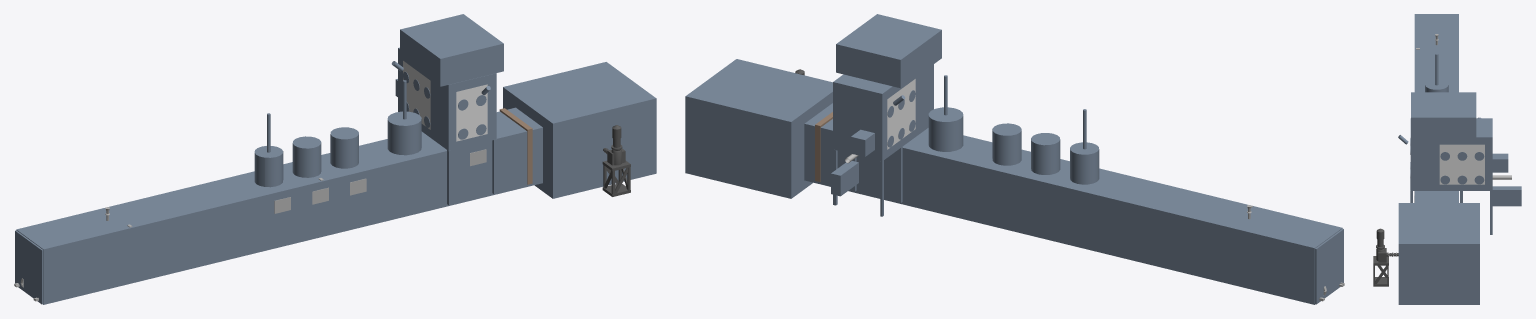
Rendered from PowderStorageBox_forUnity.fbx.
3 views of the same model, side by side, from view 1: azimuth 30°, elevation 25°; view 2: azimuth 150°, elevation 25°; view 3: azimuth 270°, elevation 25° (orthographic). The views are drawn at different scales.
Visible parts, largest first — view 1: Tunnel, SamplingUnitCor, Door; view 2: Tunnel, SamplingUnitCor, Door; view 3: Tunnel, SamplingUnitCor, Grabber_01.
Part boxes in pixels (bbox=[...]): Tunnel: bbox=[14, 62, 656, 304]; SamplingUnitCor: bbox=[391, 14, 503, 205]; Door: bbox=[499, 108, 532, 184]; Tunnel: bbox=[685, 59, 1344, 304]; SamplingUnitCor: bbox=[831, 14, 941, 216]; Door: bbox=[815, 112, 832, 181]; Tunnel: bbox=[1373, 14, 1479, 304]; SamplingUnitCor: bbox=[1398, 92, 1521, 234]; Grabber_01: bbox=[1435, 53, 1438, 85].
Size of the model in its own units: 1508 by 380 by 393.
